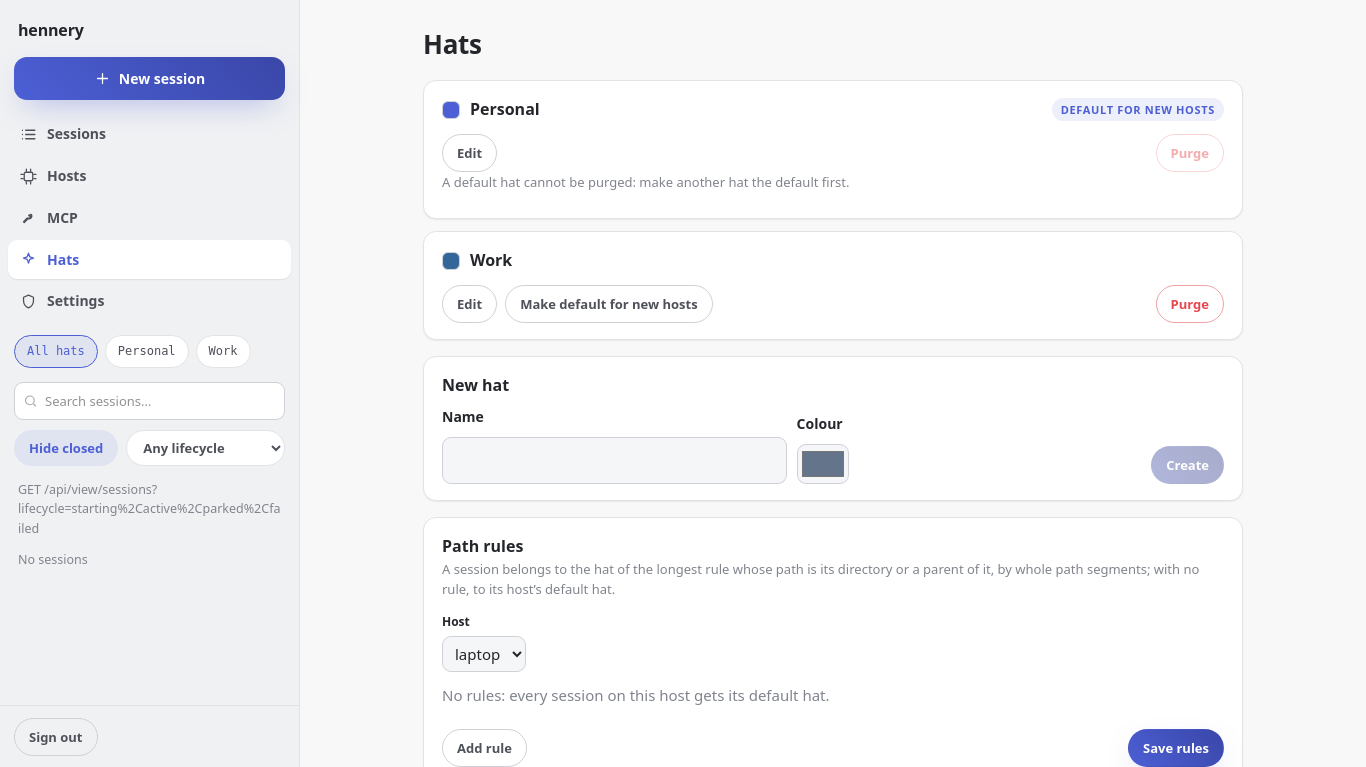
Test: the hats › renames and recolours a hat after a step-up, sending the same change again
Step 1. Click the 2nd button "Edit" → click(470, 304), box x1=442 y1=285 x2=497 y2=323
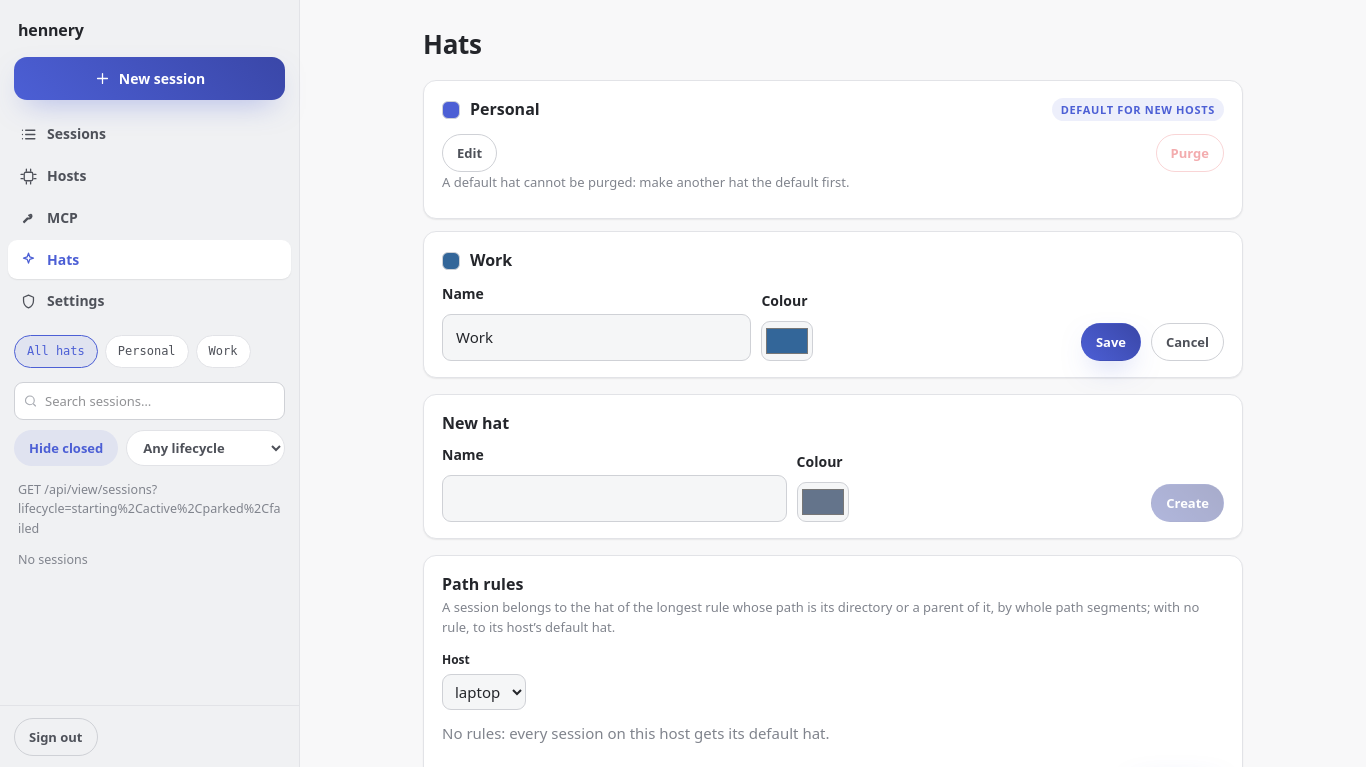
Step 2. Replace the text in the 1st field labelled "Name" with "Day job" → (597, 338), box x1=442 y1=314 x2=751 y2=361
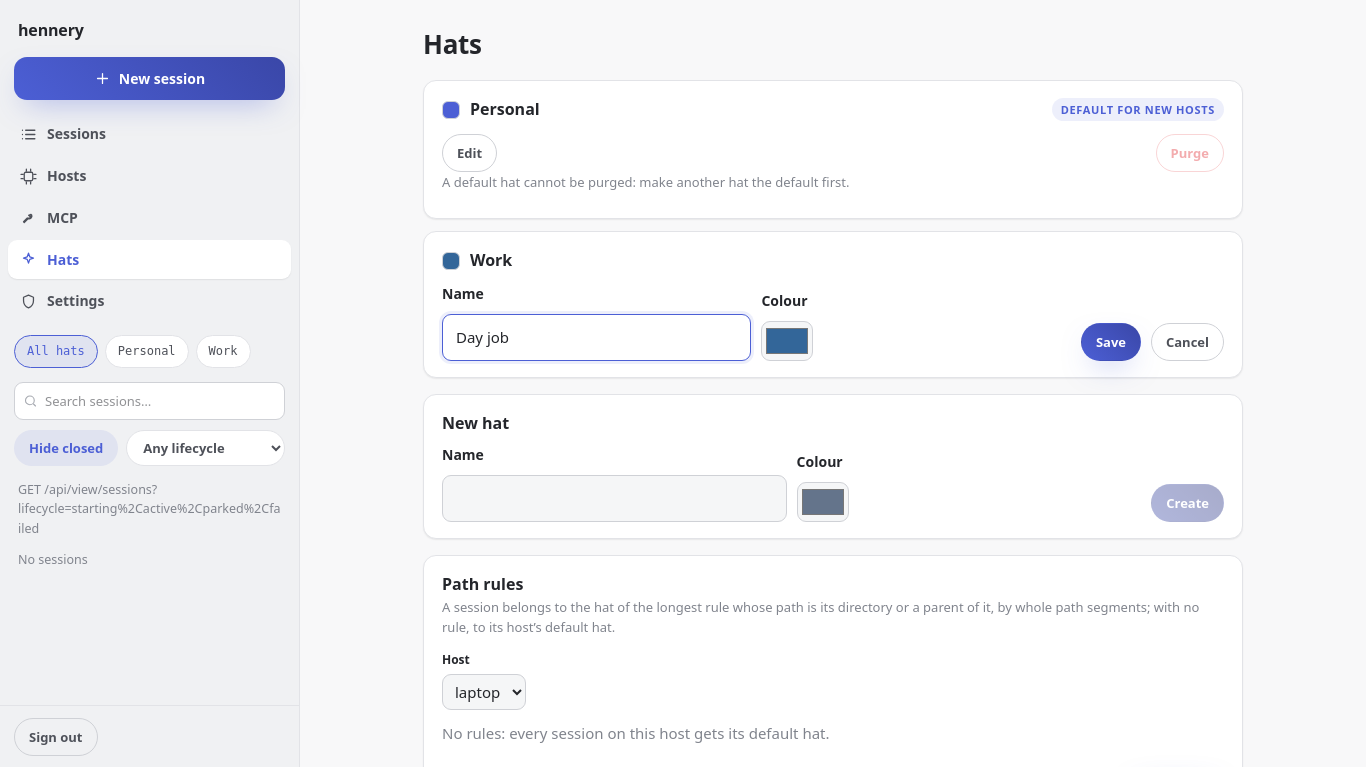
Step 3. Click the button "Save" → click(1111, 342), box x1=1081 y1=323 x2=1141 y2=361
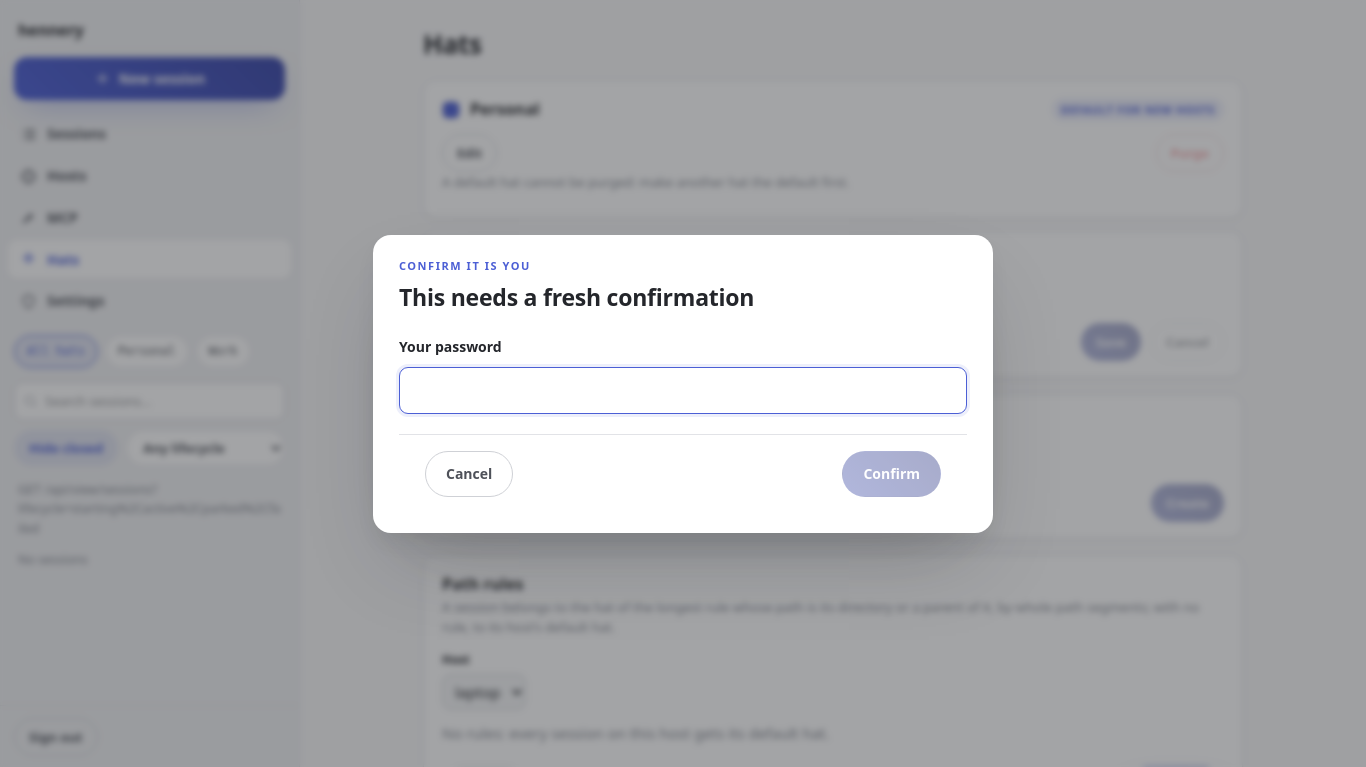
Step 4. Type "correct horse battery" into the password field labelled "Your password" → (683, 390), box x1=399 y1=367 x2=967 y2=414
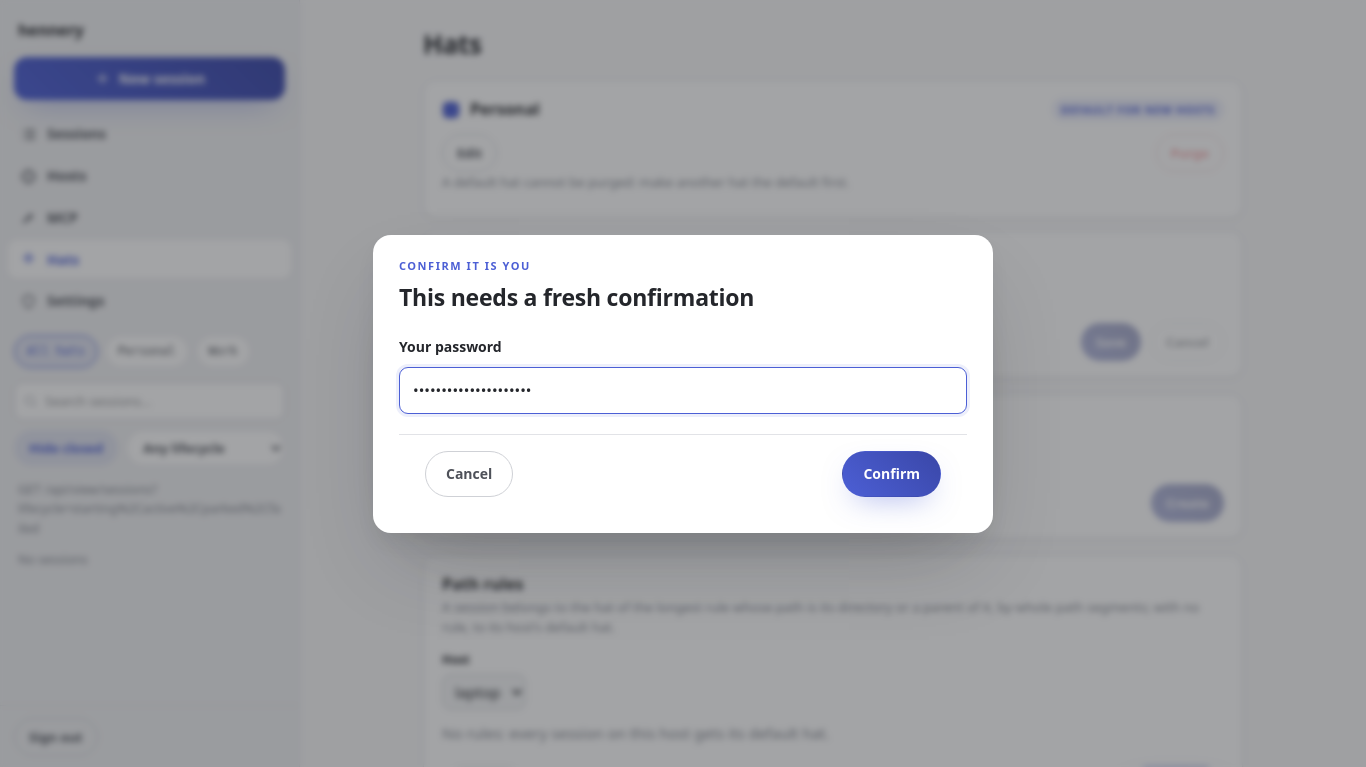
Step 5. Click the button "Confirm" → click(892, 474), box x1=842 y1=451 x2=941 y2=497
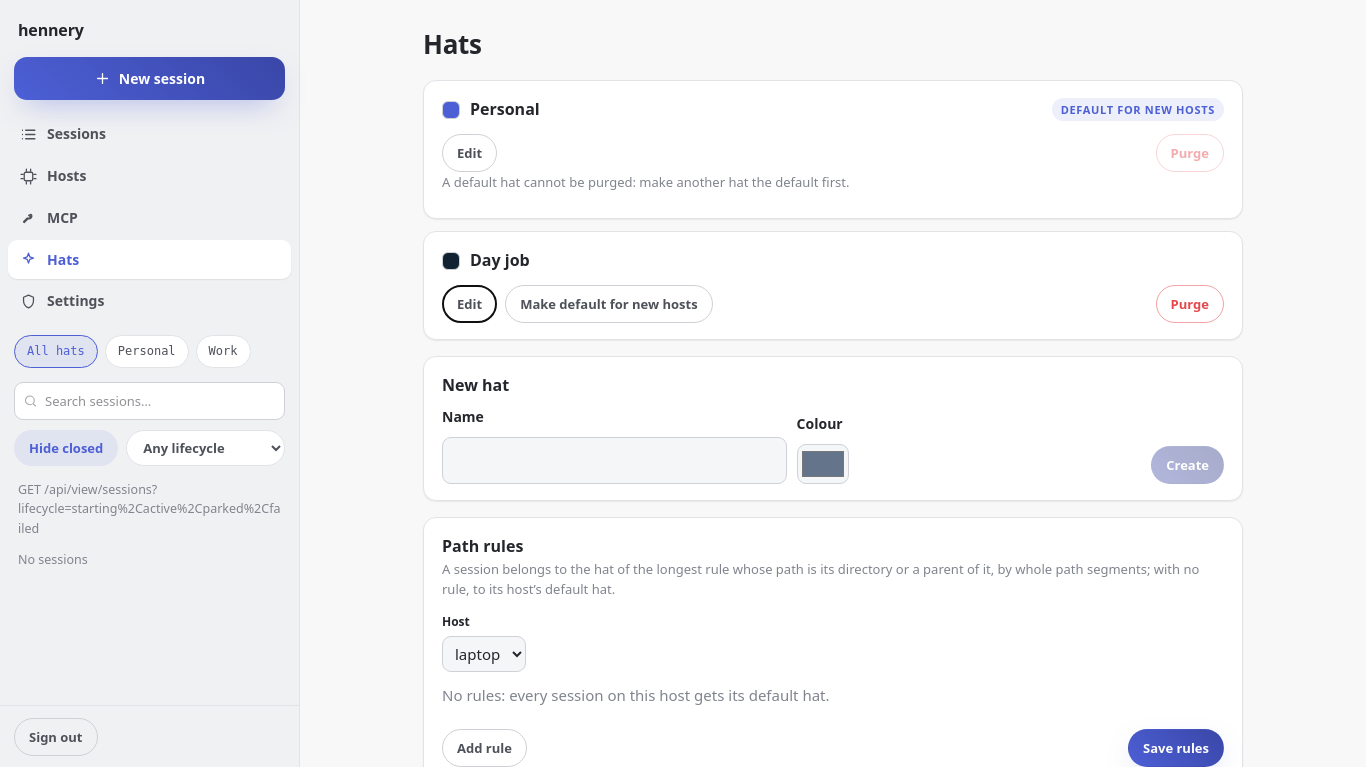
Result: the list item "Day job" is shown at x1=423 y1=231 x2=1243 y2=340
